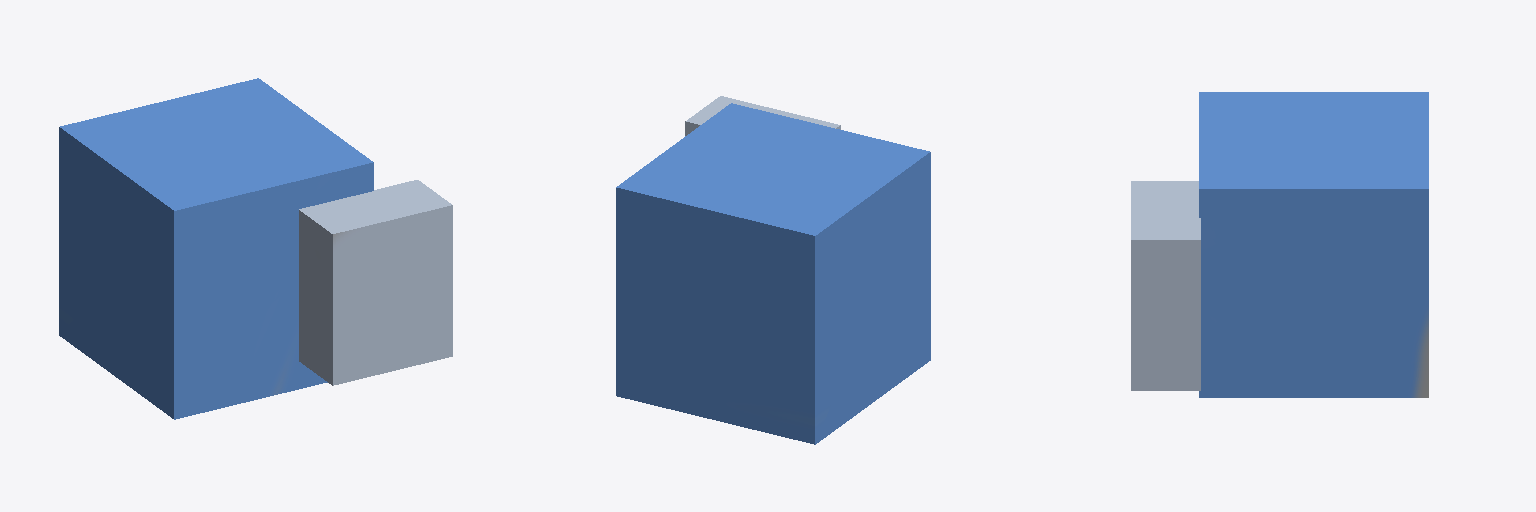
3 renders of one model, left to right at view 1: azimuth 30°, elevation 25°; view 2: azimuth 150°, elevation 25°; view 3: azimuth 270°, elevation 25°, orthographic.
Parts seen in each view (by area): view 1: 立方体; view 2: 立方体; view 3: 立方体.
Part boxes in pixels (left/top/right/bottom): 立方体: left=59, top=78, right=452, bottom=419; 立方体: left=616, top=96, right=930, bottom=444; 立方体: left=1131, top=92, right=1428, bottom=397.
Size of the model in its own units: 1.22 by 1 by 1.3.
1 materials, 1 textured.